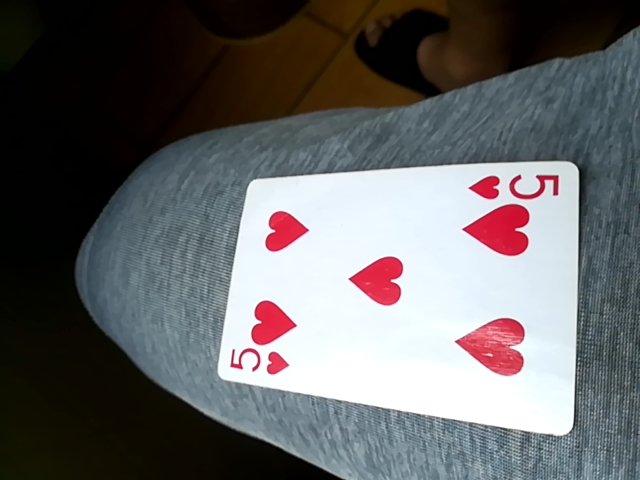hx 5: (222, 160, 584, 437)
